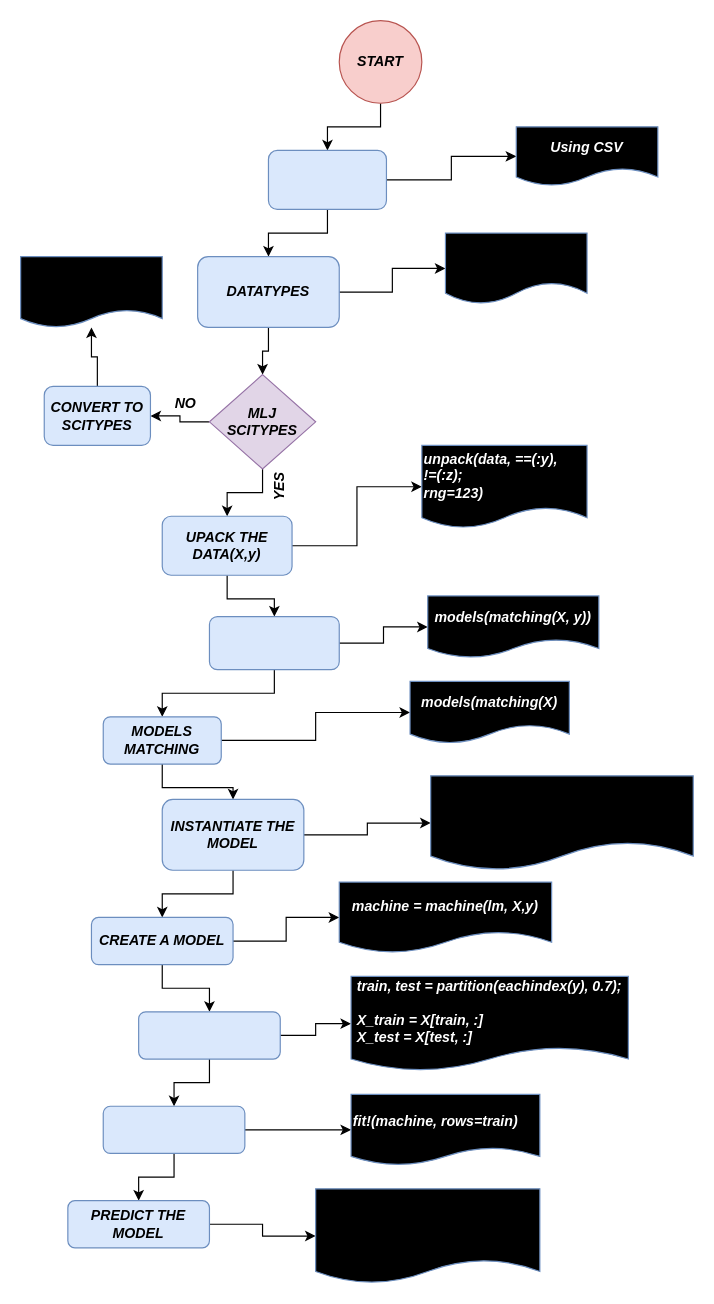
Some shapes in this 714 by 1304 pixel diagram are drawn without their labels. Each missing label, with the box of its shape:
coerce(X, :variable=>,): (19, 255, 162, 327)
FIT THE MODEL: (102, 1105, 245, 1153)
IMPORT DATA: (267, 149, 386, 209)
model = @load LineraRegression pkg=linear_models; lm = LinearRegression(): (430, 775, 693, 870)
MODEL SEARCH: (208, 615, 339, 670)
predict = predict(machine, X_test] predict_mode = predict_mode(machine, X_test): (314, 1188, 540, 1283)
schema(data): (444, 232, 587, 304)
TRAIN-TEST SPLIT: (137, 1011, 280, 1059)
